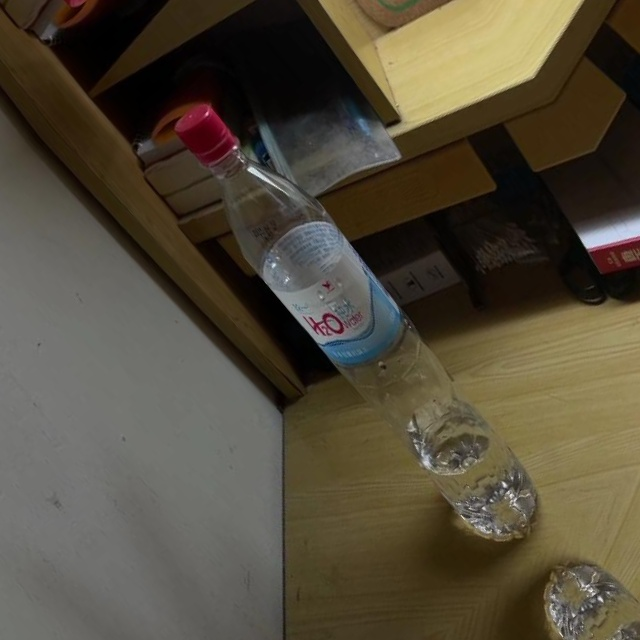Water: (144, 81, 565, 559)
